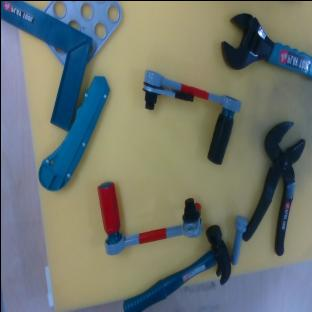non_pass: (124, 68, 242, 165)
pass: (96, 174, 203, 255)
